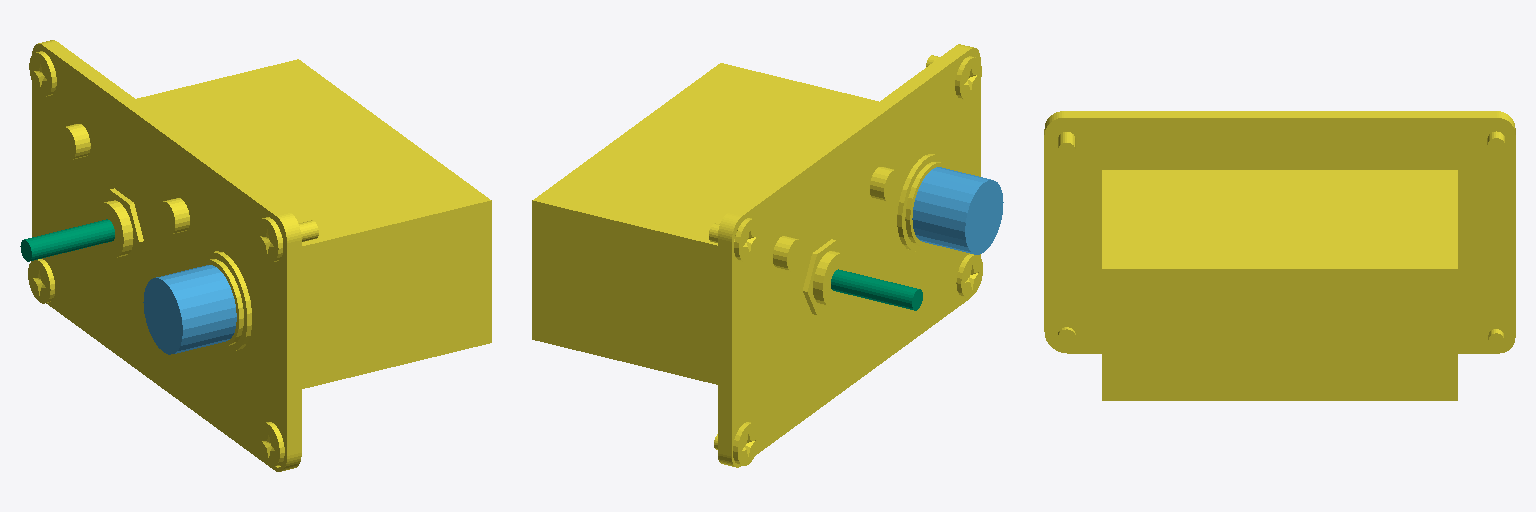
The robot description file, URDF, robot "partnet_0799c797-13b2-464f-815e-90c94b472e48":
<?xml version="1.0" ?>
<robot name="partnet_0799c797-13b2-464f-815e-90c94b472e48">
	<link name="base"/>
	<link name="link_0">
		<visual name="switch-1">
			<origin xyz="-0.4529609723383803 -0.04648585143361487 -0.5590540000000006"/>
			<geometry>
				<mesh filename="textured_objs/original-13.obj"/>
			</geometry>
		</visual>
		<collision>
			<origin xyz="-0.4529609723383803 -0.04648585143361487 -0.5590540000000006"/>
			<geometry>
				<mesh filename="textured_objs/original-13.obj"/>
			</geometry>
		</collision>
	</link>
	<joint name="joint_0" type="continuous">
		<origin xyz="0.4529609723383803 0.04648585143361487 0.5590540000000006"/>
		<axis xyz="0 0 1"/>
		<child link="link_0"/>
		<parent link="link_2"/>
	</joint>
	<link name="link_1">
		<visual name="switch-2">
			<origin xyz="0 -0.042935 -0.36"/>
			<geometry>
				<mesh filename="textured_objs/original-19.obj"/>
			</geometry>
		</visual>
		<collision>
			<origin xyz="0 -0.042935 -0.36"/>
			<geometry>
				<mesh filename="textured_objs/original-19.obj"/>
			</geometry>
		</collision>
	</link>
	<joint name="joint_1" type="revolute">
		<origin xyz="0 0.042935 0.36"/>
		<axis xyz="-1 0 0"/>
		<child link="link_1"/>
		<parent link="link_2"/>
		<limit lower="-0.5235987755982988" upper="0.5235987755982988"/>
	</joint>
	<link name="link_2">
		<visual name="base_body-3">
			<origin xyz="0 0 0"/>
			<geometry>
				<mesh filename="textured_objs/original-29.obj"/>
			</geometry>
		</visual>
		<visual name="base_body-3">
			<origin xyz="0 0 0"/>
			<geometry>
				<mesh filename="textured_objs/original-21.obj"/>
			</geometry>
		</visual>
		<visual name="base_body-3">
			<origin xyz="0 0 0"/>
			<geometry>
				<mesh filename="textured_objs/original-30.obj"/>
			</geometry>
		</visual>
		<visual name="base_body-3">
			<origin xyz="0 0 0"/>
			<geometry>
				<mesh filename="textured_objs/original-41.obj"/>
			</geometry>
		</visual>
		<visual name="base_body-3">
			<origin xyz="0 0 0"/>
			<geometry>
				<mesh filename="textured_objs/original-28.obj"/>
			</geometry>
		</visual>
		<visual name="base_body-3">
			<origin xyz="0 0 0"/>
			<geometry>
				<mesh filename="textured_objs/original-64.obj"/>
			</geometry>
		</visual>
		<visual name="base_body-3">
			<origin xyz="0 0 0"/>
			<geometry>
				<mesh filename="textured_objs/original-43.obj"/>
			</geometry>
		</visual>
		<visual name="base_body-3">
			<origin xyz="0 0 0"/>
			<geometry>
				<mesh filename="textured_objs/original-52.obj"/>
			</geometry>
		</visual>
		<visual name="base_body-3">
			<origin xyz="0 0 0"/>
			<geometry>
				<mesh filename="textured_objs/original-22.obj"/>
			</geometry>
		</visual>
		<visual name="base_body-3">
			<origin xyz="0 0 0"/>
			<geometry>
				<mesh filename="textured_objs/original-26.obj"/>
			</geometry>
		</visual>
		<visual name="base_body-3">
			<origin xyz="0 0 0"/>
			<geometry>
				<mesh filename="textured_objs/original-4.obj"/>
			</geometry>
		</visual>
		<visual name="base_body-3">
			<origin xyz="0 0 0"/>
			<geometry>
				<mesh filename="textured_objs/original-3.obj"/>
			</geometry>
		</visual>
		<visual name="base_body-3">
			<origin xyz="0 0 0"/>
			<geometry>
				<mesh filename="textured_objs/original-2.obj"/>
			</geometry>
		</visual>
		<visual name="base_body-3">
			<origin xyz="0 0 0"/>
			<geometry>
				<mesh filename="textured_objs/original-44.obj"/>
			</geometry>
		</visual>
		<visual name="base_body-3">
			<origin xyz="0 0 0"/>
			<geometry>
				<mesh filename="textured_objs/original-16.obj"/>
			</geometry>
		</visual>
		<visual name="base_body-3">
			<origin xyz="0 0 0"/>
			<geometry>
				<mesh filename="textured_objs/original-8.obj"/>
			</geometry>
		</visual>
		<visual name="base_body-3">
			<origin xyz="0 0 0"/>
			<geometry>
				<mesh filename="textured_objs/original-9.obj"/>
			</geometry>
		</visual>
		<visual name="base_body-3">
			<origin xyz="0 0 0"/>
			<geometry>
				<mesh filename="textured_objs/original-45.obj"/>
			</geometry>
		</visual>
		<visual name="base_body-3">
			<origin xyz="0 0 0"/>
			<geometry>
				<mesh filename="textured_objs/original-35.obj"/>
			</geometry>
		</visual>
		<visual name="base_body-3">
			<origin xyz="0 0 0"/>
			<geometry>
				<mesh filename="textured_objs/original-49.obj"/>
			</geometry>
		</visual>
		<visual name="base_body-3">
			<origin xyz="0 0 0"/>
			<geometry>
				<mesh filename="textured_objs/original-61.obj"/>
			</geometry>
		</visual>
		<visual name="base_body-3">
			<origin xyz="0 0 0"/>
			<geometry>
				<mesh filename="textured_objs/original-59.obj"/>
			</geometry>
		</visual>
		<visual name="base_body-3">
			<origin xyz="0 0 0"/>
			<geometry>
				<mesh filename="textured_objs/original-5.obj"/>
			</geometry>
		</visual>
		<visual name="base_body-3">
			<origin xyz="0 0 0"/>
			<geometry>
				<mesh filename="textured_objs/original-63.obj"/>
			</geometry>
		</visual>
		<visual name="base_body-3">
			<origin xyz="0 0 0"/>
			<geometry>
				<mesh filename="textured_objs/original-27.obj"/>
			</geometry>
		</visual>
		<visual name="base_body-3">
			<origin xyz="0 0 0"/>
			<geometry>
				<mesh filename="textured_objs/original-51.obj"/>
			</geometry>
		</visual>
		<visual name="base_body-3">
			<origin xyz="0 0 0"/>
			<geometry>
				<mesh filename="textured_objs/original-55.obj"/>
			</geometry>
		</visual>
		<visual name="base_body-3">
			<origin xyz="0 0 0"/>
			<geometry>
				<mesh filename="textured_objs/original-50.obj"/>
			</geometry>
		</visual>
		<visual name="base_body-3">
			<origin xyz="0 0 0"/>
			<geometry>
				<mesh filename="textured_objs/original-6.obj"/>
			</geometry>
		</visual>
		<visual name="base_body-3">
			<origin xyz="0 0 0"/>
			<geometry>
				<mesh filename="textured_objs/original-31.obj"/>
			</geometry>
		</visual>
		<visual name="base_body-3">
			<origin xyz="0 0 0"/>
			<geometry>
				<mesh filename="textured_objs/original-37.obj"/>
			</geometry>
		</visual>
		<visual name="base_body-3">
			<origin xyz="0 0 0"/>
			<geometry>
				<mesh filename="textured_objs/original-48.obj"/>
			</geometry>
		</visual>
		<visual name="base_body-3">
			<origin xyz="0 0 0"/>
			<geometry>
				<mesh filename="textured_objs/original-15.obj"/>
			</geometry>
		</visual>
		<visual name="base_body-3">
			<origin xyz="0 0 0"/>
			<geometry>
				<mesh filename="textured_objs/original-56.obj"/>
			</geometry>
		</visual>
		<visual name="base_body-3">
			<origin xyz="0 0 0"/>
			<geometry>
				<mesh filename="textured_objs/original-62.obj"/>
			</geometry>
		</visual>
		<visual name="base_body-3">
			<origin xyz="0 0 0"/>
			<geometry>
				<mesh filename="textured_objs/original-23.obj"/>
			</geometry>
		</visual>
		<visual name="base_body-3">
			<origin xyz="0 0 0"/>
			<geometry>
				<mesh filename="textured_objs/original-66.obj"/>
			</geometry>
		</visual>
		<visual name="base_body-3">
			<origin xyz="0 0 0"/>
			<geometry>
				<mesh filename="textured_objs/original-58.obj"/>
			</geometry>
		</visual>
		<visual name="base_body-3">
			<origin xyz="0 0 0"/>
			<geometry>
				<mesh filename="textured_objs/original-67.obj"/>
			</geometry>
		</visual>
		<visual name="base_body-3">
			<origin xyz="0 0 0"/>
			<geometry>
				<mesh filename="textured_objs/original-69.obj"/>
			</geometry>
		</visual>
		<visual name="base_body-3">
			<origin xyz="0 0 0"/>
			<geometry>
				<mesh filename="textured_objs/original-11.obj"/>
			</geometry>
		</visual>
		<visual name="base_body-3">
			<origin xyz="0 0 0"/>
			<geometry>
				<mesh filename="textured_objs/original-38.obj"/>
			</geometry>
		</visual>
		<visual name="base_body-3">
			<origin xyz="0 0 0"/>
			<geometry>
				<mesh filename="textured_objs/original-68.obj"/>
			</geometry>
		</visual>
		<visual name="base_body-3">
			<origin xyz="0 0 0"/>
			<geometry>
				<mesh filename="textured_objs/original-34.obj"/>
			</geometry>
		</visual>
		<visual name="base_body-3">
			<origin xyz="0 0 0"/>
			<geometry>
				<mesh filename="textured_objs/original-18.obj"/>
			</geometry>
		</visual>
		<visual name="base_body-3">
			<origin xyz="0 0 0"/>
			<geometry>
				<mesh filename="textured_objs/original-25.obj"/>
			</geometry>
		</visual>
		<visual name="base_body-3">
			<origin xyz="0 0 0"/>
			<geometry>
				<mesh filename="textured_objs/original-17.obj"/>
			</geometry>
		</visual>
		<visual name="base_body-3">
			<origin xyz="0 0 0"/>
			<geometry>
				<mesh filename="textured_objs/original-12.obj"/>
			</geometry>
		</visual>
		<visual name="base_body-3">
			<origin xyz="0 0 0"/>
			<geometry>
				<mesh filename="textured_objs/original-42.obj"/>
			</geometry>
		</visual>
		<visual name="base_body-3">
			<origin xyz="0 0 0"/>
			<geometry>
				<mesh filename="textured_objs/original-24.obj"/>
			</geometry>
		</visual>
		<visual name="base_body-3">
			<origin xyz="0 0 0"/>
			<geometry>
				<mesh filename="textured_objs/original-20.obj"/>
			</geometry>
		</visual>
		<visual name="base_body-3">
			<origin xyz="0 0 0"/>
			<geometry>
				<mesh filename="textured_objs/original-32.obj"/>
			</geometry>
		</visual>
		<visual name="base_body-3">
			<origin xyz="0 0 0"/>
			<geometry>
				<mesh filename="textured_objs/original-47.obj"/>
			</geometry>
		</visual>
		<visual name="base_body-3">
			<origin xyz="0 0 0"/>
			<geometry>
				<mesh filename="textured_objs/original-53.obj"/>
			</geometry>
		</visual>
		<visual name="base_body-3">
			<origin xyz="0 0 0"/>
			<geometry>
				<mesh filename="textured_objs/original-7.obj"/>
			</geometry>
		</visual>
		<visual name="base_body-3">
			<origin xyz="0 0 0"/>
			<geometry>
				<mesh filename="textured_objs/original-1.obj"/>
			</geometry>
		</visual>
		<visual name="base_body-3">
			<origin xyz="0 0 0"/>
			<geometry>
				<mesh filename="textured_objs/original-10.obj"/>
			</geometry>
		</visual>
		<visual name="base_body-3">
			<origin xyz="0 0 0"/>
			<geometry>
				<mesh filename="textured_objs/original-14.obj"/>
			</geometry>
		</visual>
		<visual name="base_body-3">
			<origin xyz="0 0 0"/>
			<geometry>
				<mesh filename="textured_objs/original-40.obj"/>
			</geometry>
		</visual>
		<visual name="base_body-3">
			<origin xyz="0 0 0"/>
			<geometry>
				<mesh filename="textured_objs/original-46.obj"/>
			</geometry>
		</visual>
		<collision>
			<origin xyz="0 0 0"/>
			<geometry>
				<mesh filename="textured_objs/original-29.obj"/>
			</geometry>
		</collision>
		<collision>
			<origin xyz="0 0 0"/>
			<geometry>
				<mesh filename="textured_objs/original-21.obj"/>
			</geometry>
		</collision>
		<collision>
			<origin xyz="0 0 0"/>
			<geometry>
				<mesh filename="textured_objs/original-30.obj"/>
			</geometry>
		</collision>
		<collision>
			<origin xyz="0 0 0"/>
			<geometry>
				<mesh filename="textured_objs/original-41.obj"/>
			</geometry>
		</collision>
		<collision>
			<origin xyz="0 0 0"/>
			<geometry>
				<mesh filename="textured_objs/original-28.obj"/>
			</geometry>
		</collision>
		<collision>
			<origin xyz="0 0 0"/>
			<geometry>
				<mesh filename="textured_objs/original-64.obj"/>
			</geometry>
		</collision>
		<collision>
			<origin xyz="0 0 0"/>
			<geometry>
				<mesh filename="textured_objs/original-43.obj"/>
			</geometry>
		</collision>
		<collision>
			<origin xyz="0 0 0"/>
			<geometry>
				<mesh filename="textured_objs/original-52.obj"/>
			</geometry>
		</collision>
		<collision>
			<origin xyz="0 0 0"/>
			<geometry>
				<mesh filename="textured_objs/original-22.obj"/>
			</geometry>
		</collision>
		<collision>
			<origin xyz="0 0 0"/>
			<geometry>
				<mesh filename="textured_objs/original-26.obj"/>
			</geometry>
		</collision>
		<collision>
			<origin xyz="0 0 0"/>
			<geometry>
				<mesh filename="textured_objs/original-4.obj"/>
			</geometry>
		</collision>
		<collision>
			<origin xyz="0 0 0"/>
			<geometry>
				<mesh filename="textured_objs/original-3.obj"/>
			</geometry>
		</collision>
		<collision>
			<origin xyz="0 0 0"/>
			<geometry>
				<mesh filename="textured_objs/original-2.obj"/>
			</geometry>
		</collision>
		<collision>
			<origin xyz="0 0 0"/>
			<geometry>
				<mesh filename="textured_objs/original-44.obj"/>
			</geometry>
		</collision>
		<collision>
			<origin xyz="0 0 0"/>
			<geometry>
				<mesh filename="textured_objs/original-16.obj"/>
			</geometry>
		</collision>
		<collision>
			<origin xyz="0 0 0"/>
			<geometry>
				<mesh filename="textured_objs/original-8.obj"/>
			</geometry>
		</collision>
		<collision>
			<origin xyz="0 0 0"/>
			<geometry>
				<mesh filename="textured_objs/original-9.obj"/>
			</geometry>
		</collision>
		<collision>
			<origin xyz="0 0 0"/>
			<geometry>
				<mesh filename="textured_objs/original-45.obj"/>
			</geometry>
		</collision>
		<collision>
			<origin xyz="0 0 0"/>
			<geometry>
				<mesh filename="textured_objs/original-35.obj"/>
			</geometry>
		</collision>
		<collision>
			<origin xyz="0 0 0"/>
			<geometry>
				<mesh filename="textured_objs/original-49.obj"/>
			</geometry>
		</collision>
		<collision>
			<origin xyz="0 0 0"/>
			<geometry>
				<mesh filename="textured_objs/original-61.obj"/>
			</geometry>
		</collision>
		<collision>
			<origin xyz="0 0 0"/>
			<geometry>
				<mesh filename="textured_objs/original-59.obj"/>
			</geometry>
		</collision>
		<collision>
			<origin xyz="0 0 0"/>
			<geometry>
				<mesh filename="textured_objs/original-5.obj"/>
			</geometry>
		</collision>
		<collision>
			<origin xyz="0 0 0"/>
			<geometry>
				<mesh filename="textured_objs/original-63.obj"/>
			</geometry>
		</collision>
		<collision>
			<origin xyz="0 0 0"/>
			<geometry>
				<mesh filename="textured_objs/original-27.obj"/>
			</geometry>
		</collision>
		<collision>
			<origin xyz="0 0 0"/>
			<geometry>
				<mesh filename="textured_objs/original-51.obj"/>
			</geometry>
		</collision>
		<collision>
			<origin xyz="0 0 0"/>
			<geometry>
				<mesh filename="textured_objs/original-55.obj"/>
			</geometry>
		</collision>
		<collision>
			<origin xyz="0 0 0"/>
			<geometry>
				<mesh filename="textured_objs/original-50.obj"/>
			</geometry>
		</collision>
		<collision>
			<origin xyz="0 0 0"/>
			<geometry>
				<mesh filename="textured_objs/original-6.obj"/>
			</geometry>
		</collision>
		<collision>
			<origin xyz="0 0 0"/>
			<geometry>
				<mesh filename="textured_objs/original-31.obj"/>
			</geometry>
		</collision>
		<collision>
			<origin xyz="0 0 0"/>
			<geometry>
				<mesh filename="textured_objs/original-37.obj"/>
			</geometry>
		</collision>
		<collision>
			<origin xyz="0 0 0"/>
			<geometry>
				<mesh filename="textured_objs/original-48.obj"/>
			</geometry>
		</collision>
		<collision>
			<origin xyz="0 0 0"/>
			<geometry>
				<mesh filename="textured_objs/original-15.obj"/>
			</geometry>
		</collision>
		<collision>
			<origin xyz="0 0 0"/>
			<geometry>
				<mesh filename="textured_objs/original-56.obj"/>
			</geometry>
		</collision>
		<collision>
			<origin xyz="0 0 0"/>
			<geometry>
				<mesh filename="textured_objs/original-62.obj"/>
			</geometry>
		</collision>
		<collision>
			<origin xyz="0 0 0"/>
			<geometry>
				<mesh filename="textured_objs/original-23.obj"/>
			</geometry>
		</collision>
		<collision>
			<origin xyz="0 0 0"/>
			<geometry>
				<mesh filename="textured_objs/original-66.obj"/>
			</geometry>
		</collision>
		<collision>
			<origin xyz="0 0 0"/>
			<geometry>
				<mesh filename="textured_objs/original-58.obj"/>
			</geometry>
		</collision>
		<collision>
			<origin xyz="0 0 0"/>
			<geometry>
				<mesh filename="textured_objs/original-67.obj"/>
			</geometry>
		</collision>
		<collision>
			<origin xyz="0 0 0"/>
			<geometry>
				<mesh filename="textured_objs/original-69.obj"/>
			</geometry>
		</collision>
		<collision>
			<origin xyz="0 0 0"/>
			<geometry>
				<mesh filename="textured_objs/original-11.obj"/>
			</geometry>
		</collision>
		<collision>
			<origin xyz="0 0 0"/>
			<geometry>
				<mesh filename="textured_objs/original-38.obj"/>
			</geometry>
		</collision>
		<collision>
			<origin xyz="0 0 0"/>
			<geometry>
				<mesh filename="textured_objs/original-68.obj"/>
			</geometry>
		</collision>
		<collision>
			<origin xyz="0 0 0"/>
			<geometry>
				<mesh filename="textured_objs/original-34.obj"/>
			</geometry>
		</collision>
		<collision>
			<origin xyz="0 0 0"/>
			<geometry>
				<mesh filename="textured_objs/original-18.obj"/>
			</geometry>
		</collision>
		<collision>
			<origin xyz="0 0 0"/>
			<geometry>
				<mesh filename="textured_objs/original-25.obj"/>
			</geometry>
		</collision>
		<collision>
			<origin xyz="0 0 0"/>
			<geometry>
				<mesh filename="textured_objs/original-17.obj"/>
			</geometry>
		</collision>
		<collision>
			<origin xyz="0 0 0"/>
			<geometry>
				<mesh filename="textured_objs/original-12.obj"/>
			</geometry>
		</collision>
		<collision>
			<origin xyz="0 0 0"/>
			<geometry>
				<mesh filename="textured_objs/original-42.obj"/>
			</geometry>
		</collision>
		<collision>
			<origin xyz="0 0 0"/>
			<geometry>
				<mesh filename="textured_objs/original-24.obj"/>
			</geometry>
		</collision>
		<collision>
			<origin xyz="0 0 0"/>
			<geometry>
				<mesh filename="textured_objs/original-20.obj"/>
			</geometry>
		</collision>
		<collision>
			<origin xyz="0 0 0"/>
			<geometry>
				<mesh filename="textured_objs/original-32.obj"/>
			</geometry>
		</collision>
		<collision>
			<origin xyz="0 0 0"/>
			<geometry>
				<mesh filename="textured_objs/original-47.obj"/>
			</geometry>
		</collision>
		<collision>
			<origin xyz="0 0 0"/>
			<geometry>
				<mesh filename="textured_objs/original-53.obj"/>
			</geometry>
		</collision>
		<collision>
			<origin xyz="0 0 0"/>
			<geometry>
				<mesh filename="textured_objs/original-7.obj"/>
			</geometry>
		</collision>
		<collision>
			<origin xyz="0 0 0"/>
			<geometry>
				<mesh filename="textured_objs/original-1.obj"/>
			</geometry>
		</collision>
		<collision>
			<origin xyz="0 0 0"/>
			<geometry>
				<mesh filename="textured_objs/original-10.obj"/>
			</geometry>
		</collision>
		<collision>
			<origin xyz="0 0 0"/>
			<geometry>
				<mesh filename="textured_objs/original-14.obj"/>
			</geometry>
		</collision>
		<collision>
			<origin xyz="0 0 0"/>
			<geometry>
				<mesh filename="textured_objs/original-40.obj"/>
			</geometry>
		</collision>
		<collision>
			<origin xyz="0 0 0"/>
			<geometry>
				<mesh filename="textured_objs/original-46.obj"/>
			</geometry>
		</collision>
	</link>
	<joint name="joint_2" type="fixed">
		<origin rpy="1.570796326794897 0 -1.570796326794897" xyz="0 0 0"/>
		<child link="link_2"/>
		<parent link="base"/>
	</joint>
</robot>

--- Render facts (derived) ---
3 views of the same robot in one strip: view 1: azimuth 30°, elevation 25°; view 2: azimuth 150°, elevation 25°; view 3: azimuth 270°, elevation 25° (orthographic).
Robot: partnet_0799c797-13b2-464f-815e-90c94b472e48 — 4 links, 3 joints (1 revolute, 1 continuous, 1 fixed); root link base; default pose: all joints at 0.
Visible links, largest first — view 1: link_2, link_0, link_1; view 2: link_2, link_0, link_1; view 3: link_2.
Boxes of the visible links, x1=… form: link_2: x1=28, y1=40, x2=491, y2=471; link_0: x1=143, y1=265, x2=236, y2=354; link_1: x1=20, y1=219, x2=114, y2=261; link_2: x1=532, y1=44, x2=982, y2=467; link_0: x1=912, y1=167, x2=1003, y2=254; link_1: x1=831, y1=269, x2=922, y2=310; link_2: x1=1044, y1=111, x2=1515, y2=400.
Bounding box of the posed robot: 1.31 × 1.73 × 0.9564 m (x, y, z).
Meshes: 62 distinct files referenced, 62 mesh visuals loaded (62 OBJ).
